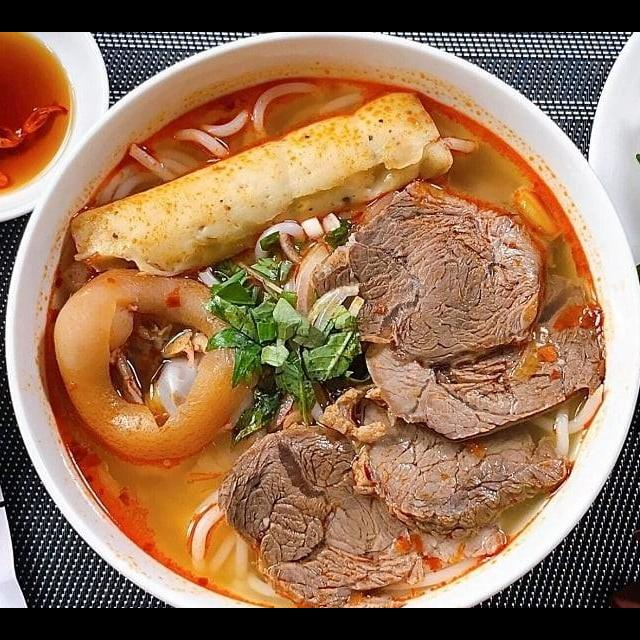bun: (90, 68, 368, 212), (192, 202, 358, 315), (172, 482, 284, 607), (524, 373, 616, 465)
bun bo: (28, 74, 610, 582)
thit bo: (212, 421, 512, 608), (306, 172, 552, 372), (358, 260, 612, 448), (318, 376, 576, 541)
